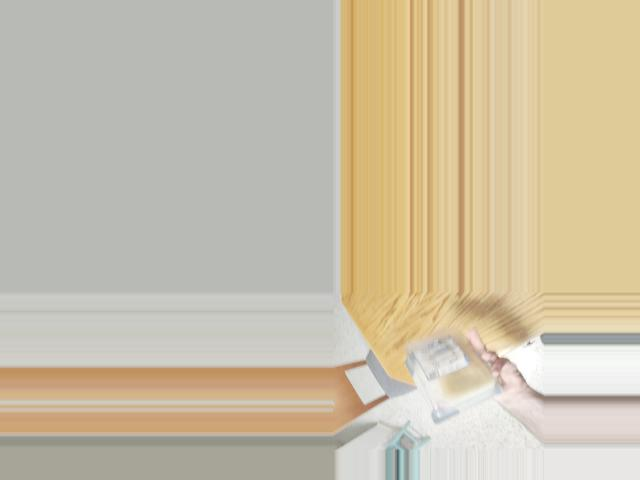cheese: (397, 338, 500, 417)
